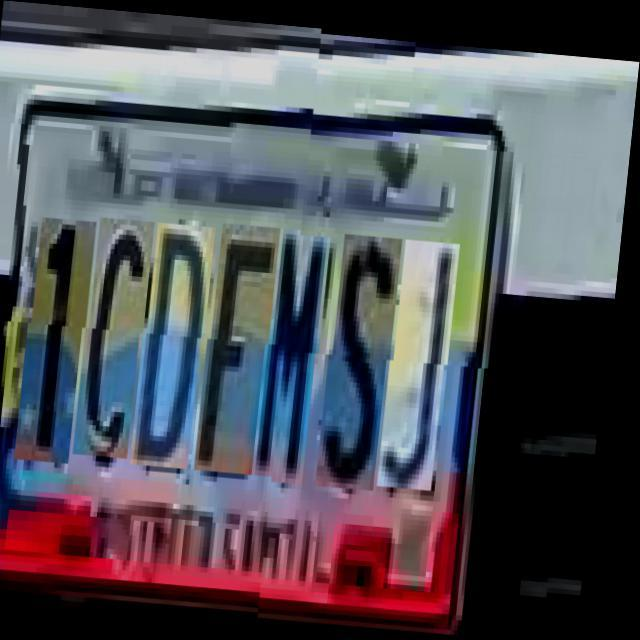1: (27, 221, 101, 467)
C: (85, 220, 158, 461)
D: (143, 224, 220, 470)
F: (207, 223, 284, 474)
J: (390, 231, 464, 482)
M: (264, 227, 336, 478)
S: (329, 227, 407, 483)
